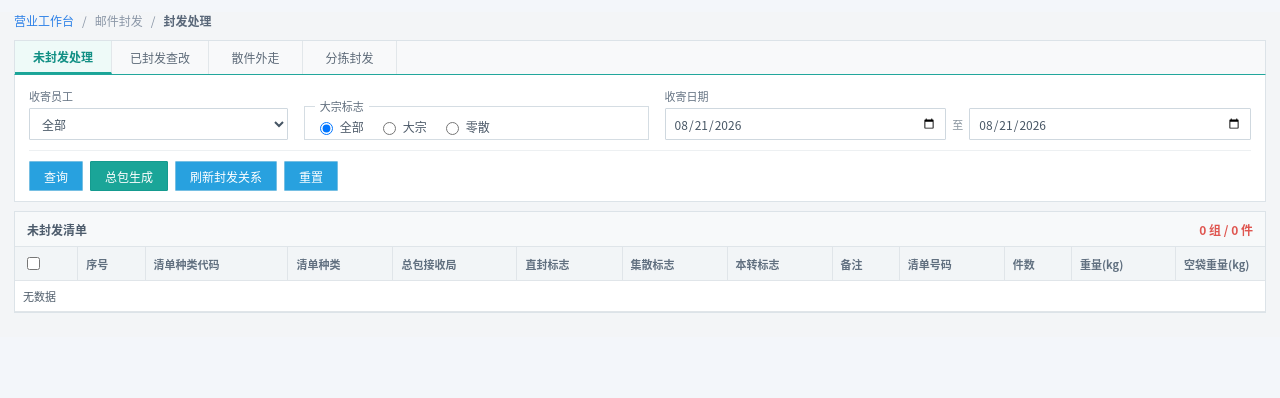
Test case: MailSealingWorkspace › reloads newly settled mail when another workspace changed IndexedDB
The image size is (1280, 398).
Check: the cell "无数据" is shown, box [15,280,1265,312]
Click the button "查询" at (56, 176), box [29,161,83,191]
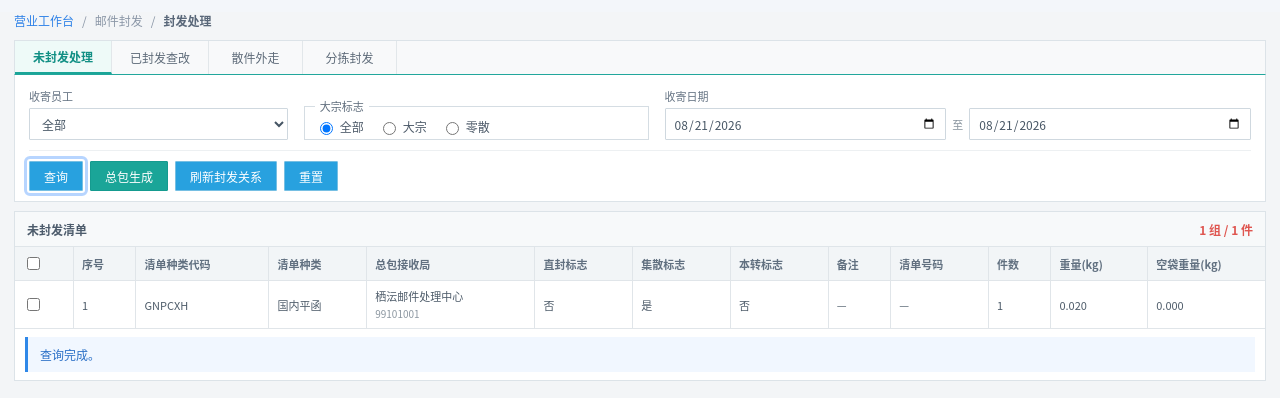
Check: the checkbox named "采集清单 国内平函" is shown, box [27,298,40,311]
